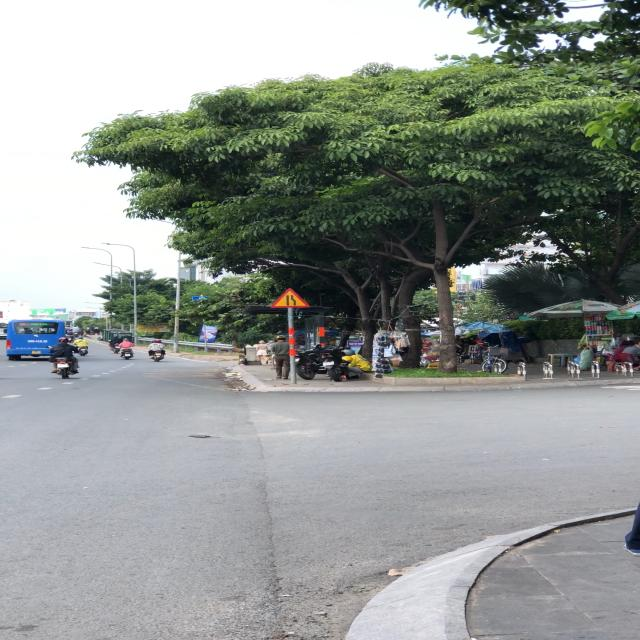Bien bao duong bi thu hep: (268, 287, 314, 309)
